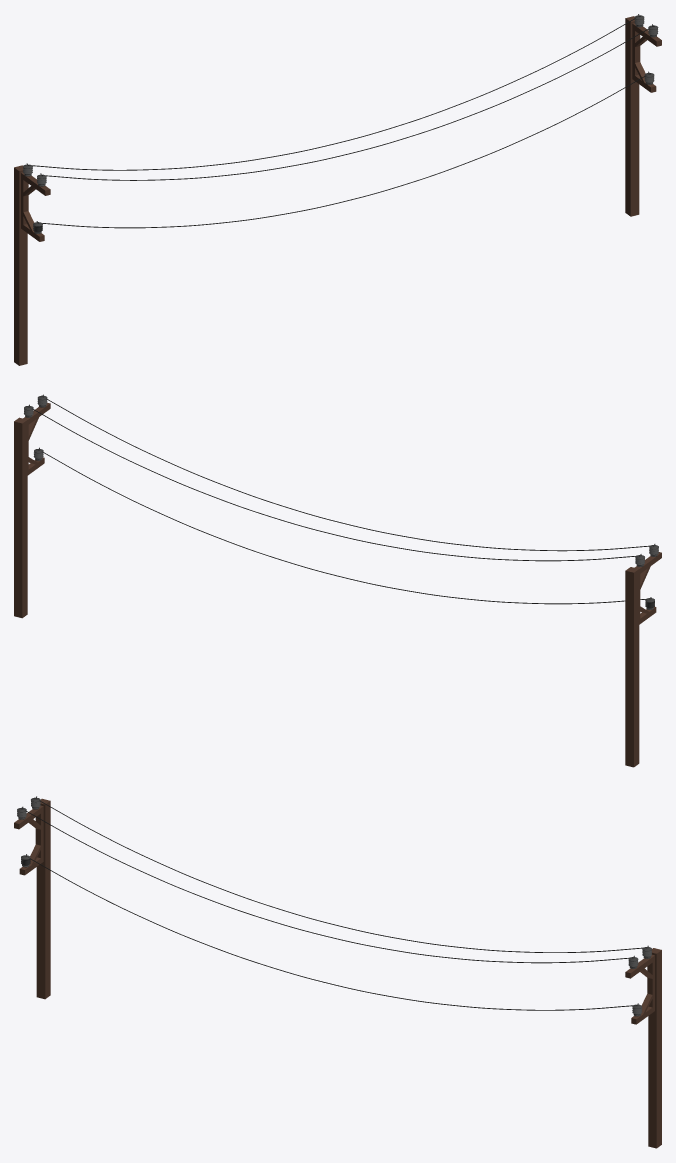
File: electricityPole1.fbx
The picture shows the model from 3 angles, top to bottom: view 1: azimuth 30°, elevation 25°; view 2: azimuth 150°, elevation 25°; view 3: azimuth 330°, elevation 25°; orthographic projection.
Visible parts, largest first — view 1: Cube.008, Cube.007, Catenary.001, Catenary, Catenary.002, Cube.005, Cube.006; view 2: Cube.007, Cube.008, Catenary.001, Catenary, Catenary.002, Cube.005; view 3: Cube.007, Cube.008, Cube.006, Catenary, Catenary.002, Catenary.001, Cube.005.
Part boxes in pixels (x1=…): Cube.008: x1=625, y1=16, x2=639, y2=216; Cube.007: x1=14, y1=165, x2=27, y2=365; Catenary.001: x1=29, y1=16, x2=639, y2=170; Catenary: x1=45, y1=26, x2=652, y2=180; Catenary.002: x1=40, y1=74, x2=648, y2=228; Cube.005: x1=632, y1=23, x2=661, y2=92; Cube.006: x1=21, y1=172, x2=50, y2=241; Cube.007: x1=625, y1=567, x2=639, y2=767; Cube.008: x1=14, y1=417, x2=27, y2=618; Catenary.001: x1=29, y1=406, x2=637, y2=561; Catenary: x1=42, y1=396, x2=650, y2=551; Catenary.002: x1=39, y1=449, x2=648, y2=604; Cube.005: x1=23, y1=402, x2=50, y2=475; Cube.007: x1=36, y1=798, x2=50, y2=999; Cube.008: x1=648, y1=948, x2=661, y2=1148; Cube.006: x1=14, y1=805, x2=43, y2=875; Catenary: x1=22, y1=808, x2=630, y2=963; Catenary.002: x1=26, y1=856, x2=635, y2=1010; Catenary.001: x1=36, y1=798, x2=643, y2=952; Cube.005: x1=625, y1=954, x2=654, y2=1024.
Size of the model in its own units: 4667 by 1470 by 387.
